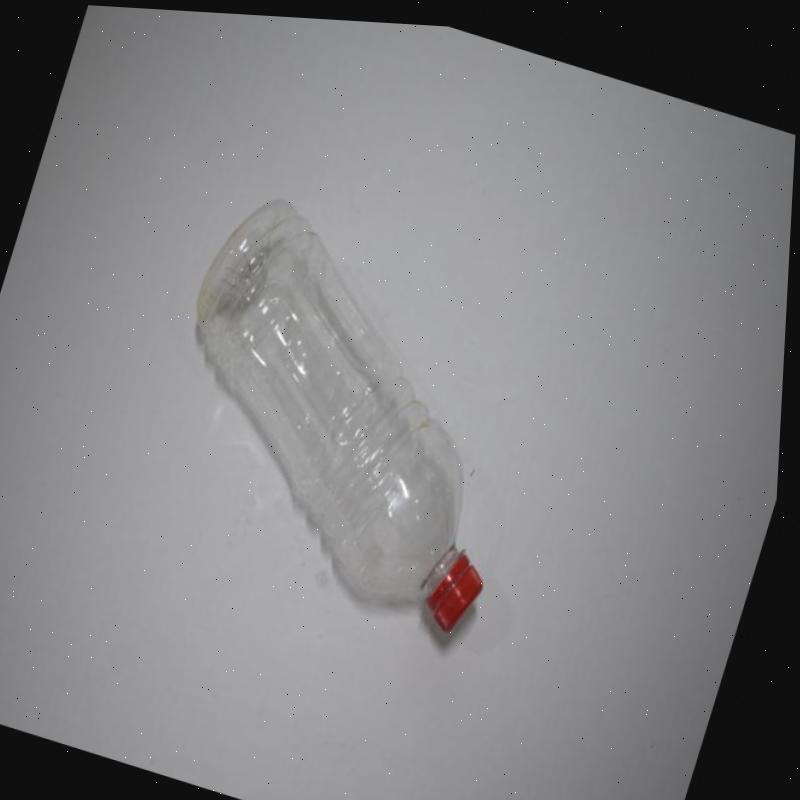botella: (128, 174, 579, 633)
